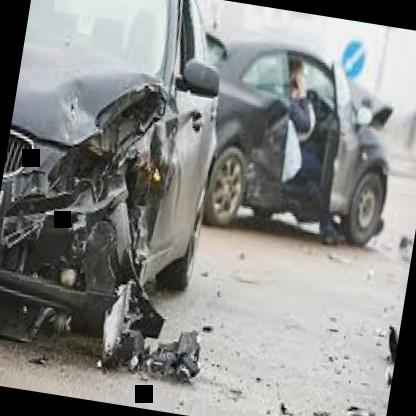accident: (0, 0, 263, 402)
